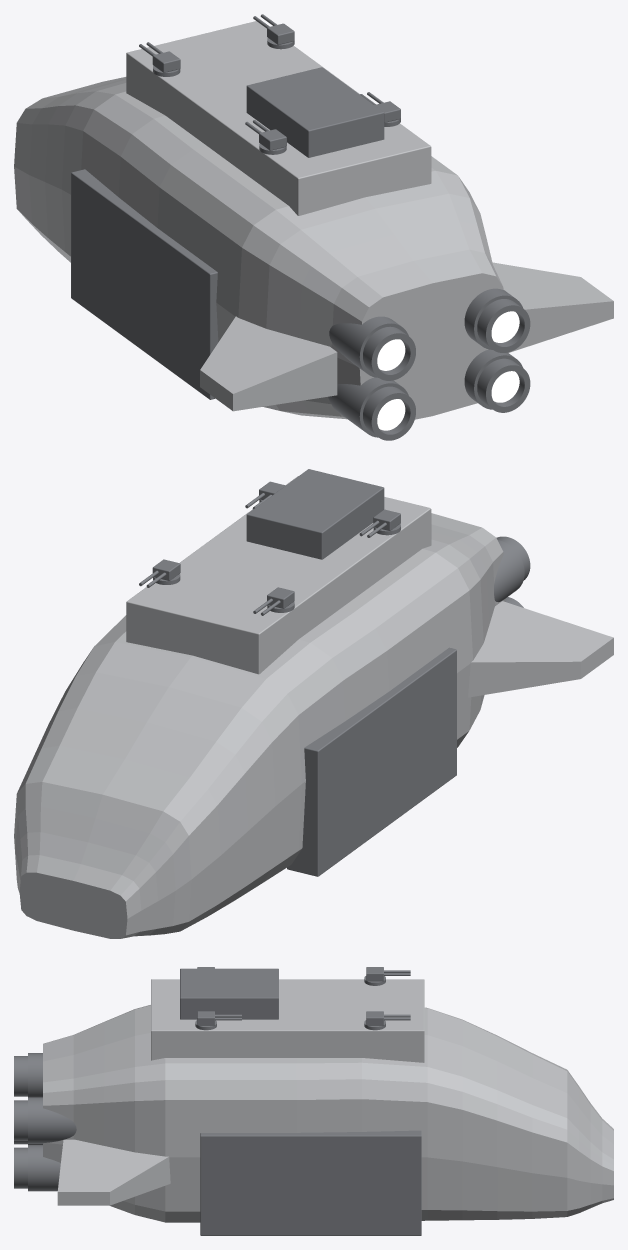
The model's file is tiger_shark.glb.
3 renders of one model, top to bottom at view 1: azimuth 30°, elevation 25°; view 2: azimuth 150°, elevation 25°; view 3: azimuth 270°, elevation 25°, orthographic. The views are drawn at different scales.
Visible parts, largest first — view 1: tiger_shark_hull; view 2: tiger_shark_hull; view 3: tiger_shark_hull.
Boxes of the visible parts, x1,y1,x2,y2 form: tiger_shark_hull: (14,14,613,440); tiger_shark_hull: (14,469,613,938); tiger_shark_hull: (14,967,613,1235).
Bounding box in the file's own units: 312 × 208 × 536.
